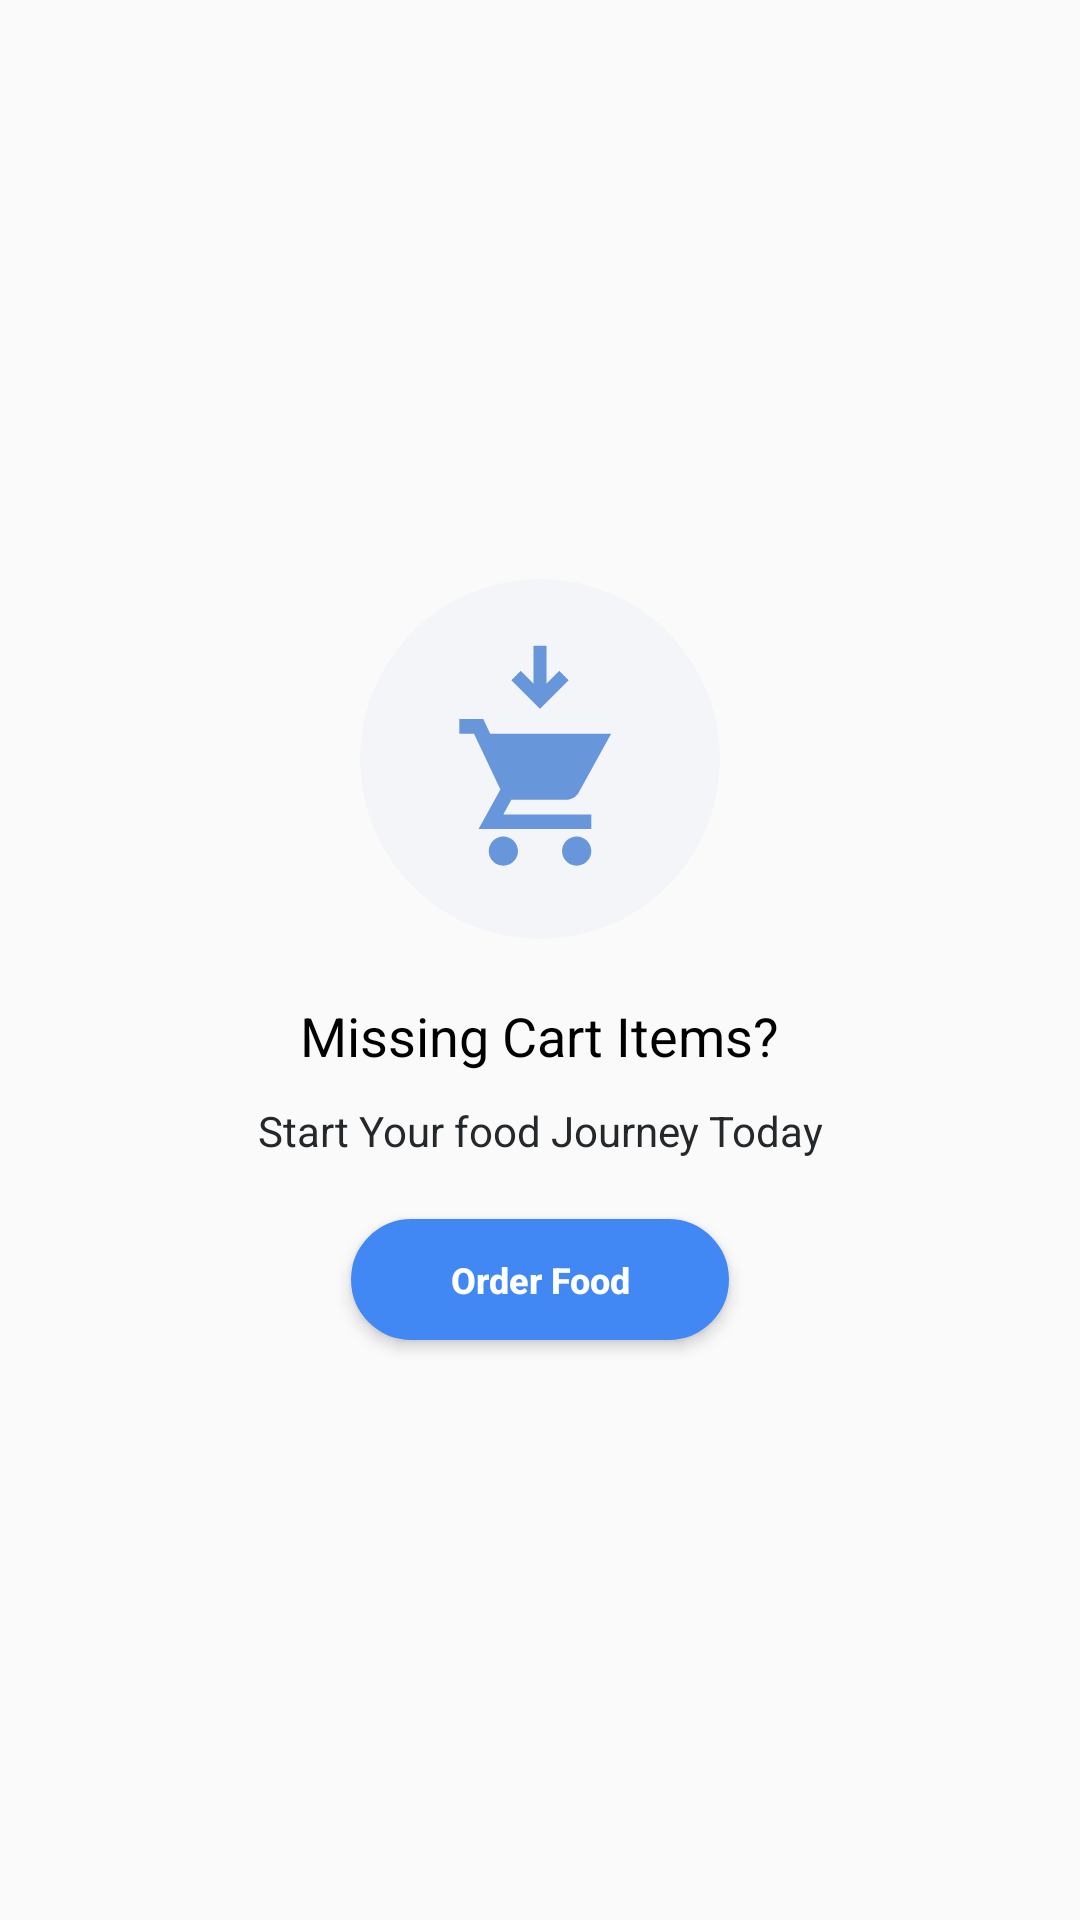

Screen size 1080 × 1920. Icon name, then its center in pixels as (x=x, y=y):
empty cart: (x=535, y=755)
